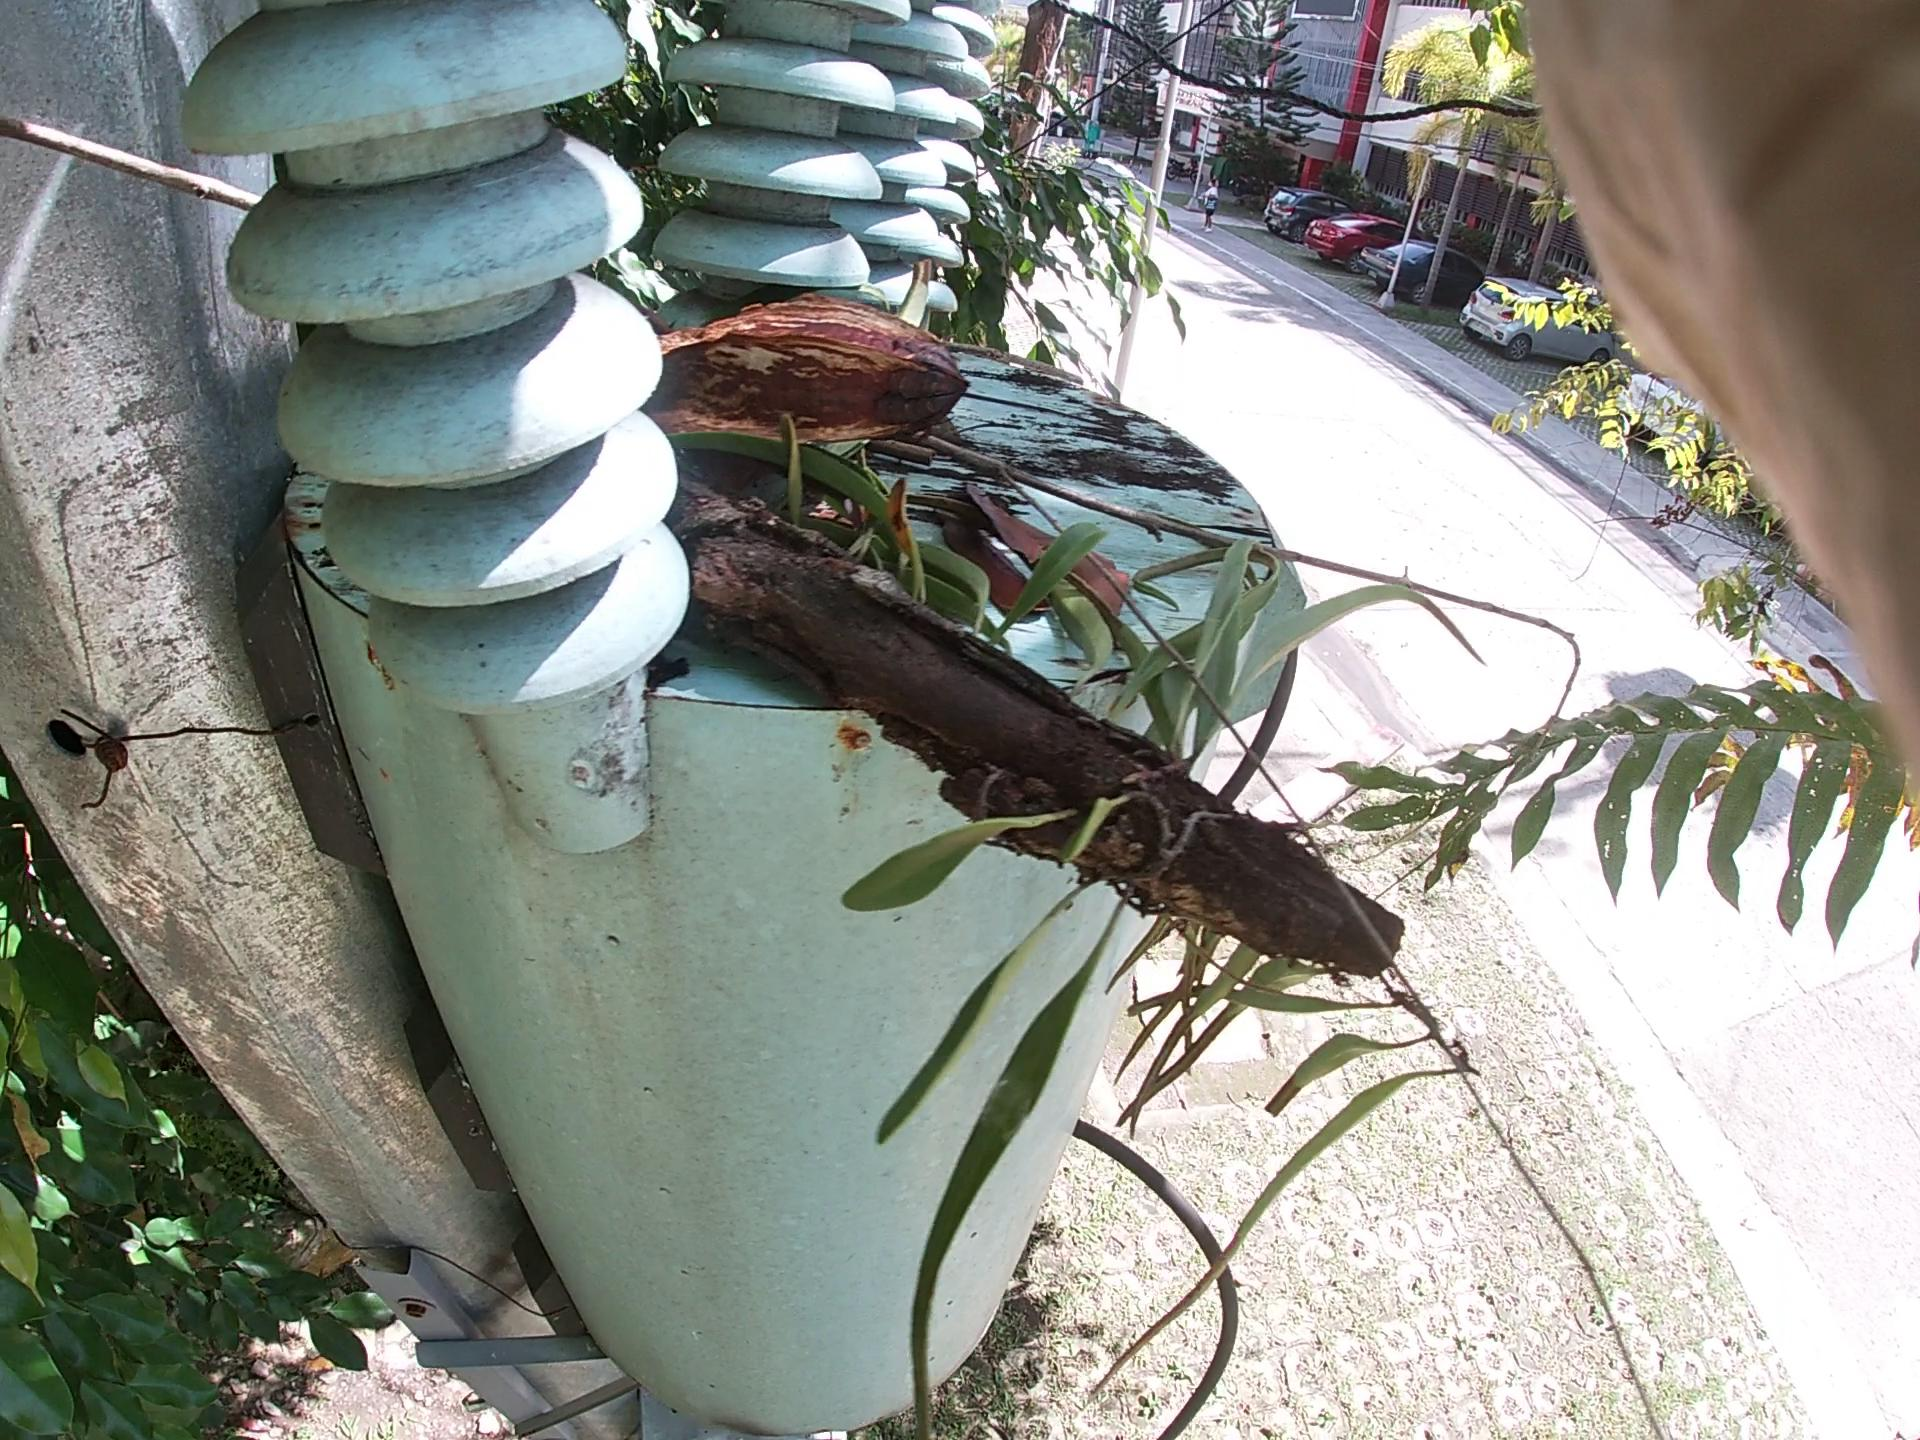branch with leaves: (708, 489, 1578, 1125)
leaf: (869, 440, 1170, 711)
mahogany fruit: (584, 280, 1090, 566)
tree branch: (51, 89, 1500, 702), (854, 234, 1144, 390)
